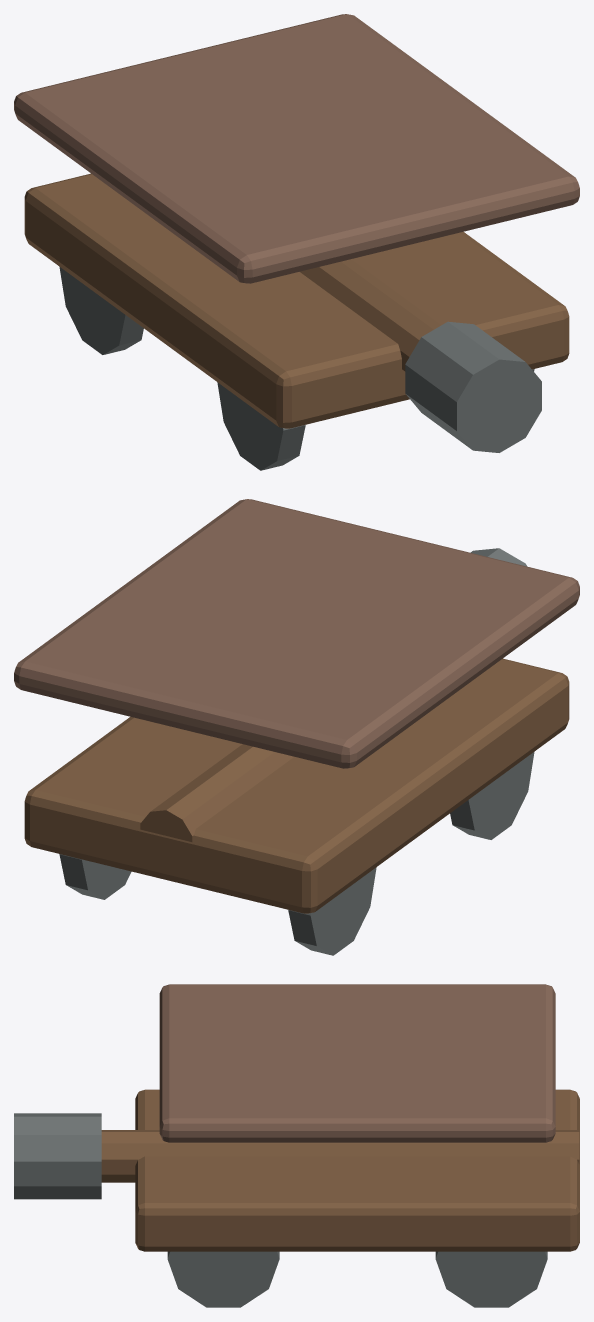
File: unit-ram.glb
The picture shows the model from 3 angles, top to bottom: view 1: azimuth 30°, elevation 25°; view 2: azimuth 150°, elevation 25°; view 3: azimuth 270°, elevation 25°; orthographic projection. The views are drawn at different scales.
Parts seen in each view (by area): view 1: protective hide roof, braced chassis, iron ram head, suspended ram, wooden wheel, wooden wheel.001; view 2: protective hide roof, braced chassis, suspended ram, wooden wheel.001, wooden wheel, wooden wheel.003; view 3: protective hide roof, braced chassis, suspended ram, iron ram head, wooden wheel.003, wooden wheel.002.
Boxes of the visible parts, x1,y1,x2,y2 form: protective hide roof: [14, 14, 579, 283]; braced chassis: [24, 173, 569, 428]; iron ram head: [405, 321, 541, 452]; suspended ram: [300, 259, 441, 372]; wooden wheel: [217, 382, 305, 470]; wooden wheel.001: [59, 266, 143, 354]; protective hide roof: [14, 499, 579, 768]; braced chassis: [24, 658, 569, 913]; suspended ram: [140, 744, 293, 841]; wooden wheel.001: [288, 867, 376, 955]; wooden wheel: [450, 751, 534, 839]; wooden wheel.003: [59, 854, 131, 899]; protective hide roof: [159, 984, 555, 1142]; braced chassis: [135, 1089, 579, 1251]; suspended ram: [101, 1130, 579, 1182]; iron ram head: [14, 1113, 101, 1199]; wooden wheel.003: [435, 1251, 547, 1307]; wooden wheel.002: [167, 1251, 279, 1307].
Bounding box in the file's own units: 2.75 × 1.85 × 4.65.
